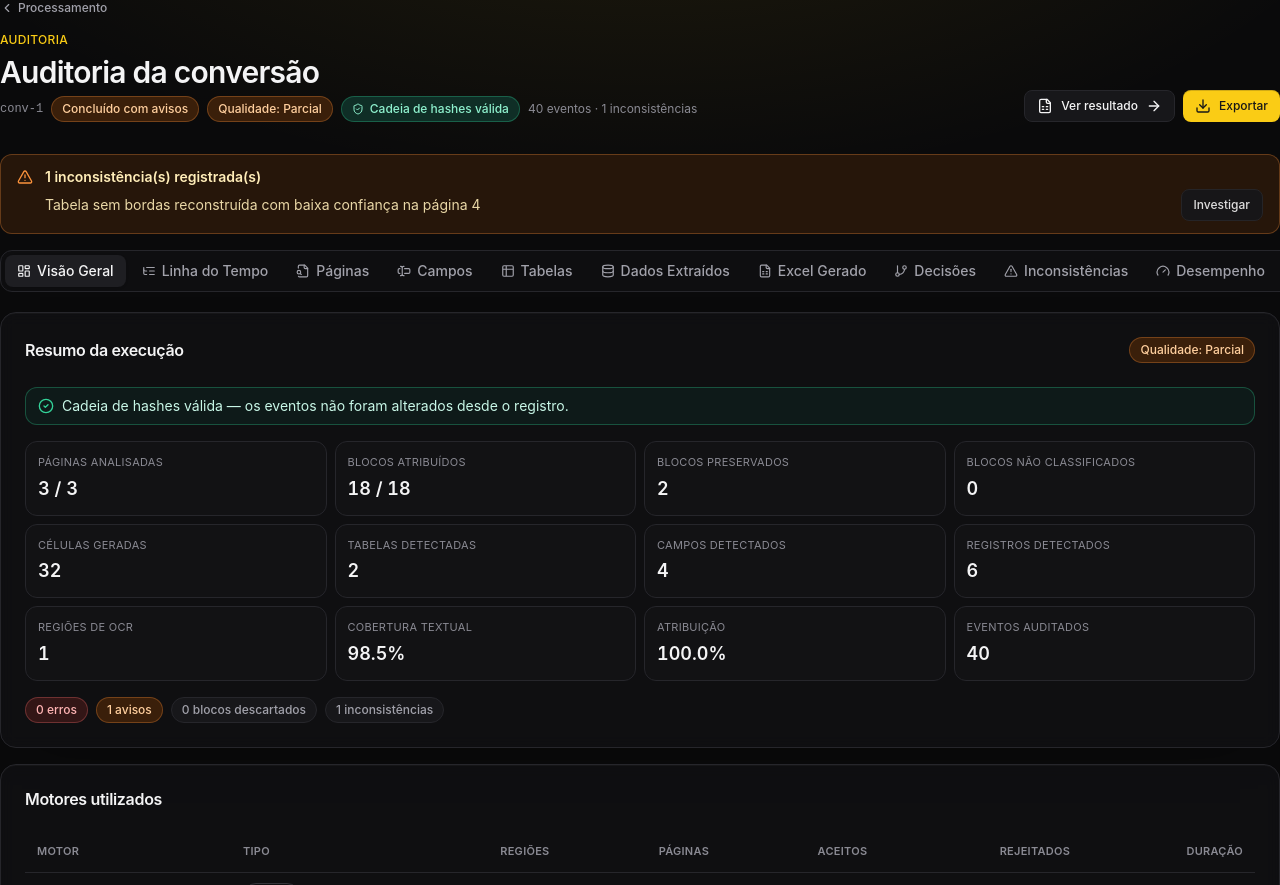
Test: AuditPage › loads the summary and surfaces an issue in the inconsistencies tab
expect the text "Blocos atribuídos" is shown: met, box x1=348 y1=455 x2=466 y2=469
Click the tab "Inconsistências".
click(1066, 271)  # box x1=992 y1=255 x2=1140 y2=287
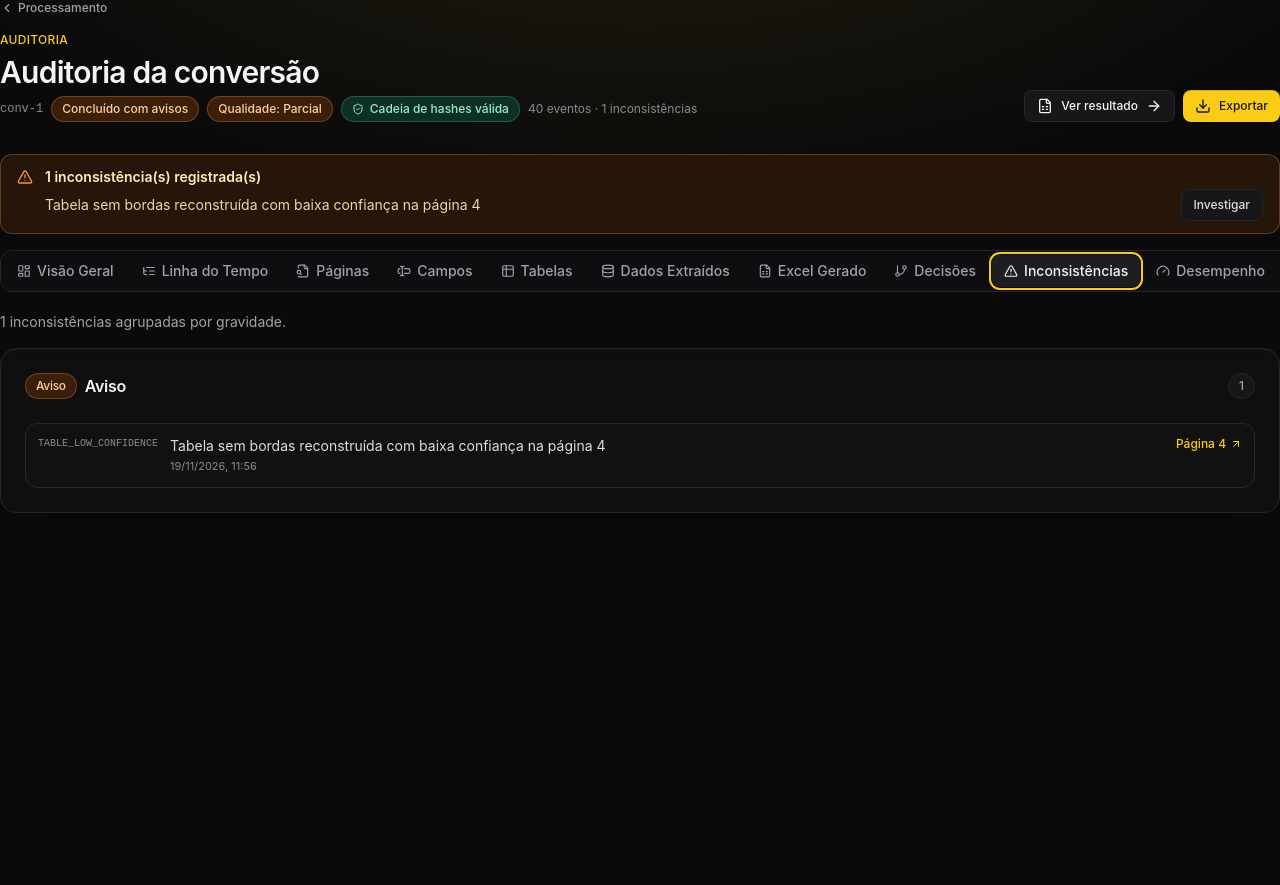
expect the text "1 inconsistências agrupadas por gravidade." is shown: met, box x1=0 y1=312 x2=286 y2=332
expect the text "TABLE_LOW_CONFIDENCE" is shown: met, box x1=38 y1=436 x2=158 y2=451
